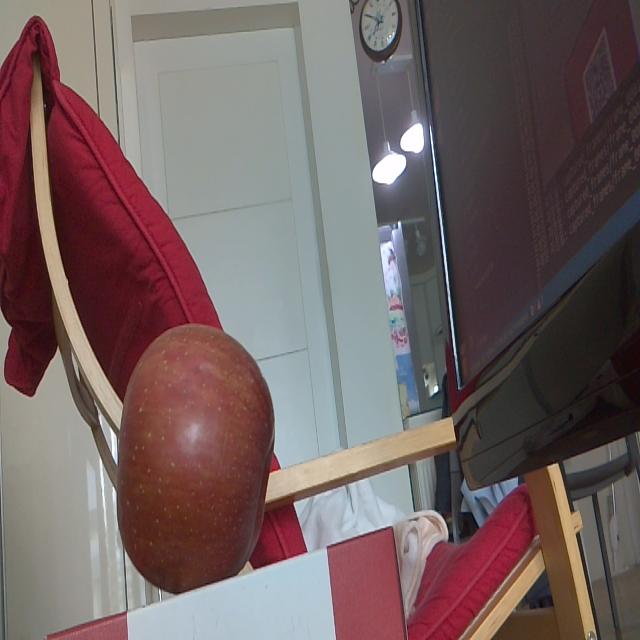apple: (116, 324, 276, 598)
